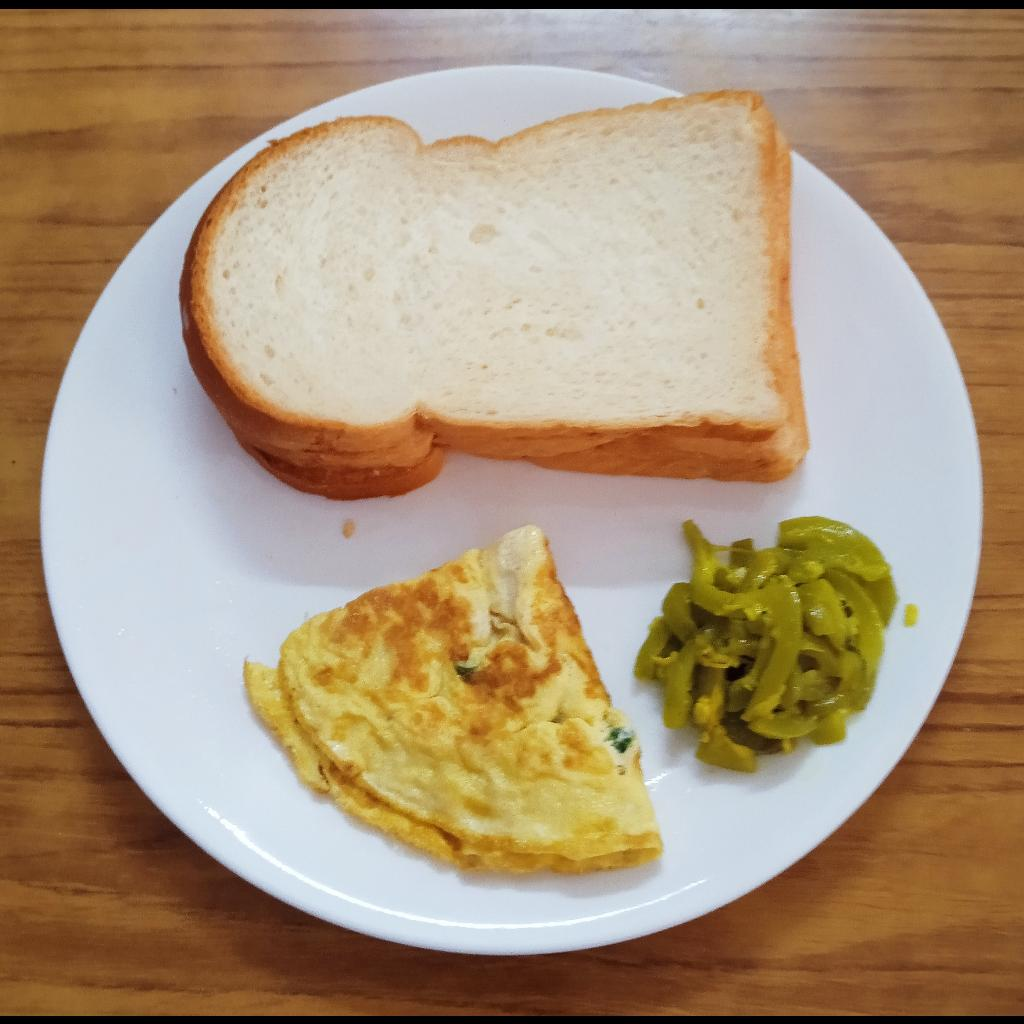bread: (177, 86, 807, 502)
chichinga-vaji: (633, 513, 901, 770)
egg-poached: (249, 523, 669, 878)
